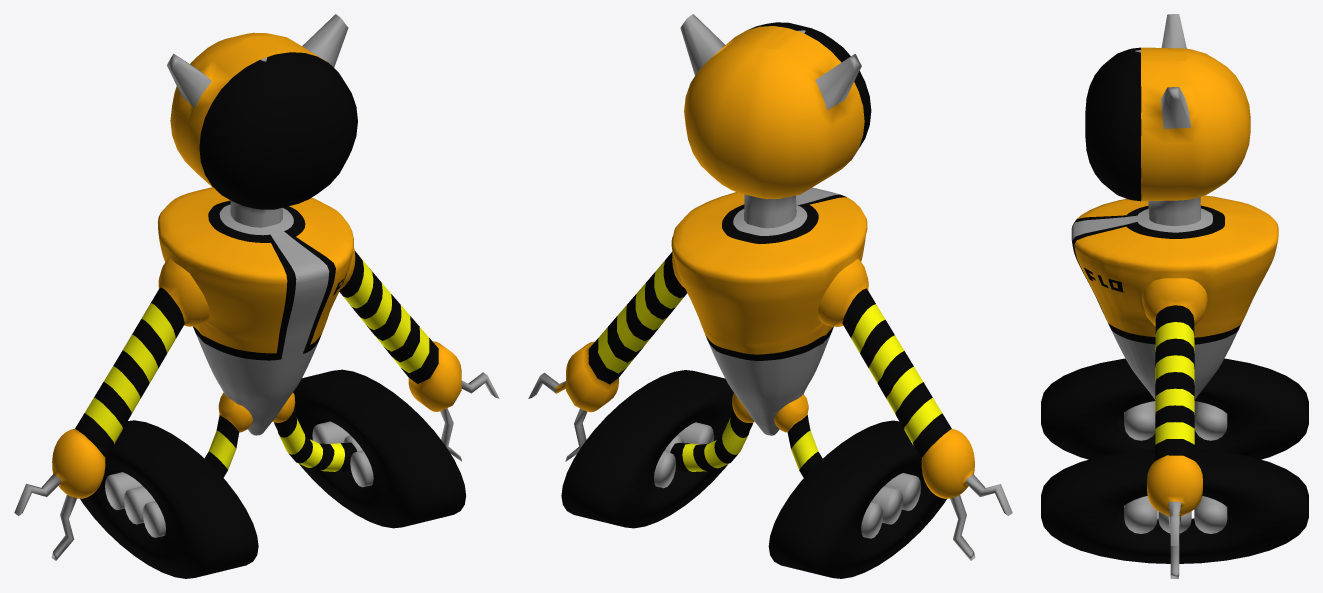
File: Flo 1st texture.fbx
3 views of the same model, side by side, from view 1: azimuth 30°, elevation 25°; view 2: azimuth 150°, elevation 25°; view 3: azimuth 270°, elevation 25° (orthographic). The views are drawn at different scales.
Parts seen in each view (by area): view 1: Flo_meters; view 2: Flo_meters; view 3: Flo_meters.
Part boxes in pixels (x1,y1,x2,y2): Flo_meters: (14, 14, 499, 578); Flo_meters: (528, 14, 1012, 578); Flo_meters: (1041, 14, 1308, 578).
Size of the model in its own units: 1.56 by 1.52 by 0.8153.
